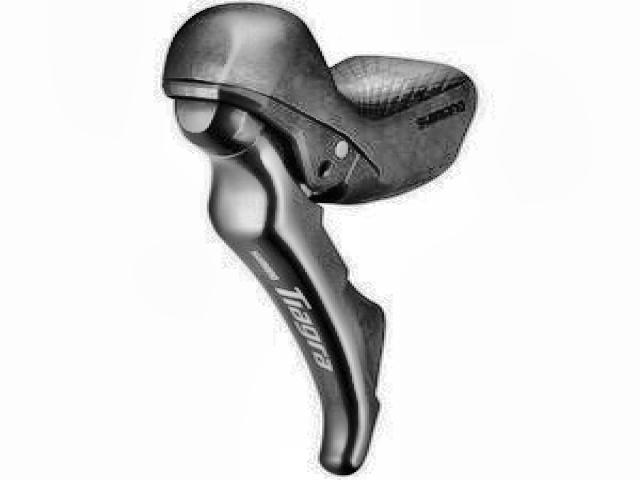sti_shifter: (155, 1, 478, 469)
